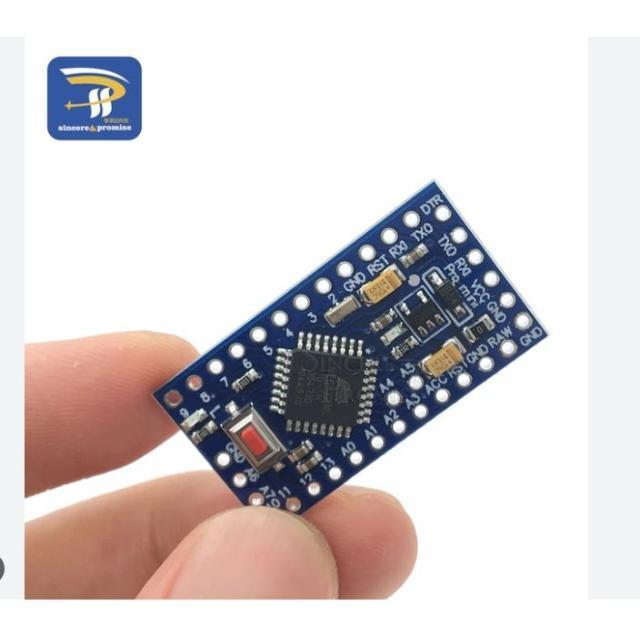Arduino-ProMini: (157, 184, 546, 513)
